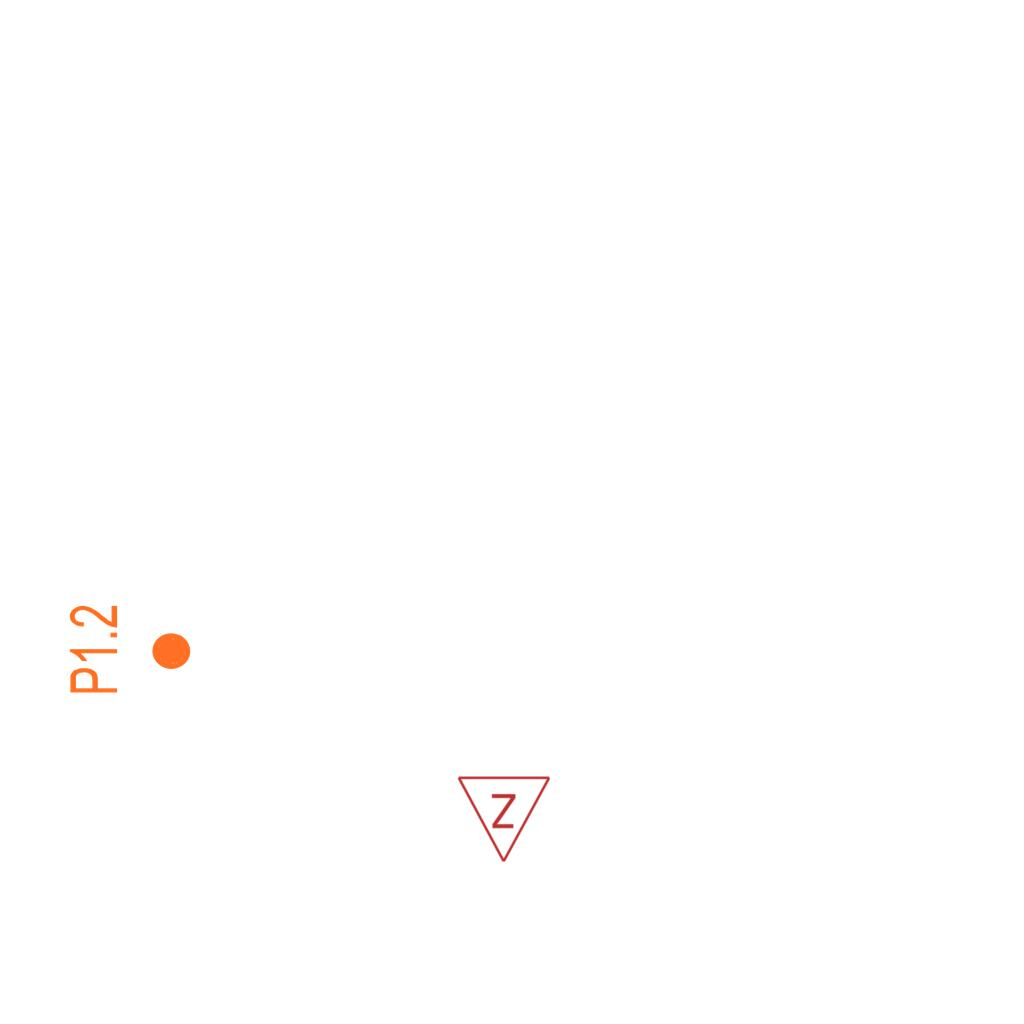Downlight_LED_Einbauleuchten_Flur: (66, 603, 194, 696)
Zimmersignalleuchte: (456, 769, 554, 869)
